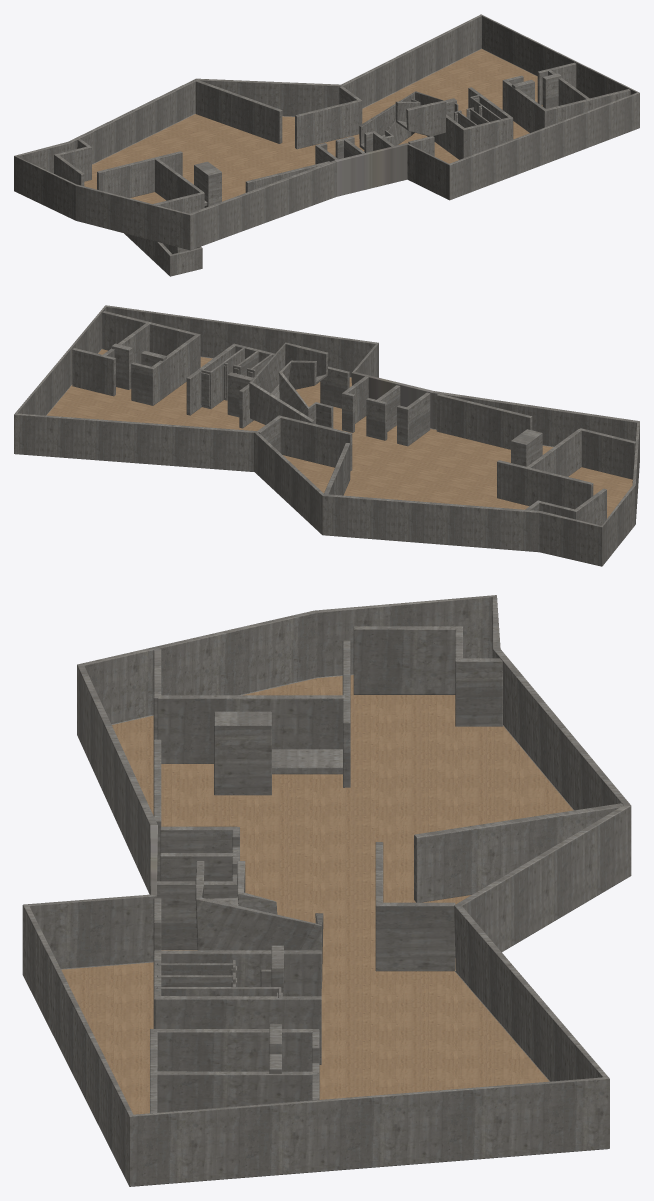
The picture shows the model from 3 angles, top to bottom: view 1: azimuth 30°, elevation 25°; view 2: azimuth 150°, elevation 25°; view 3: azimuth 270°, elevation 25°; orthographic projection. The views are drawn at different scales.
Parts seen in each view (by area): view 1: stairs4t5; view 2: stairs4t5; view 3: stairs4t5.
Part boxes in pixels (box(x1,y1,x2,y2)): stairs4t5: box(14, 14, 639, 276); stairs4t5: box(14, 305, 639, 566); stairs4t5: box(22, 595, 631, 1186).
Bounding box in the file's own units: 41.59 × 7.39 × 20.52.
2 materials, 2 textured.
